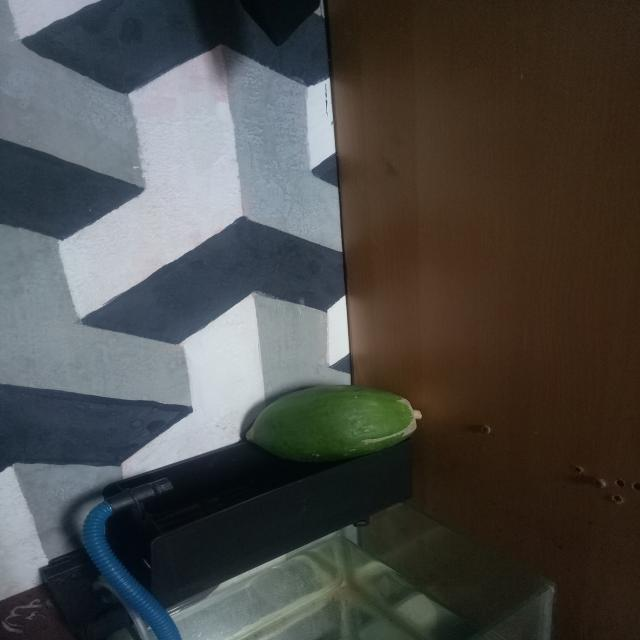Pepaya unrippen: (236, 379, 420, 464)
